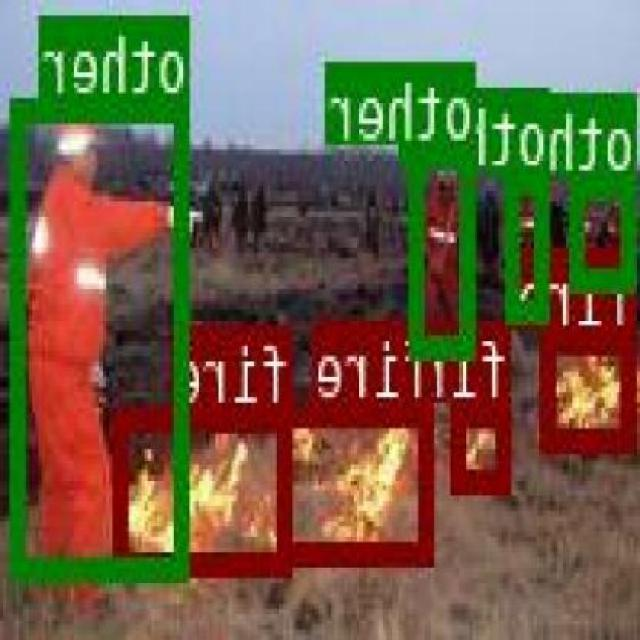Fire: (118, 405, 294, 570), (282, 398, 436, 560), (545, 330, 640, 447), (453, 398, 513, 488)
